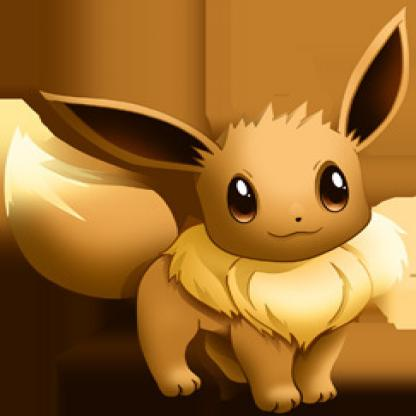Eevee: (1, 67, 416, 416)
